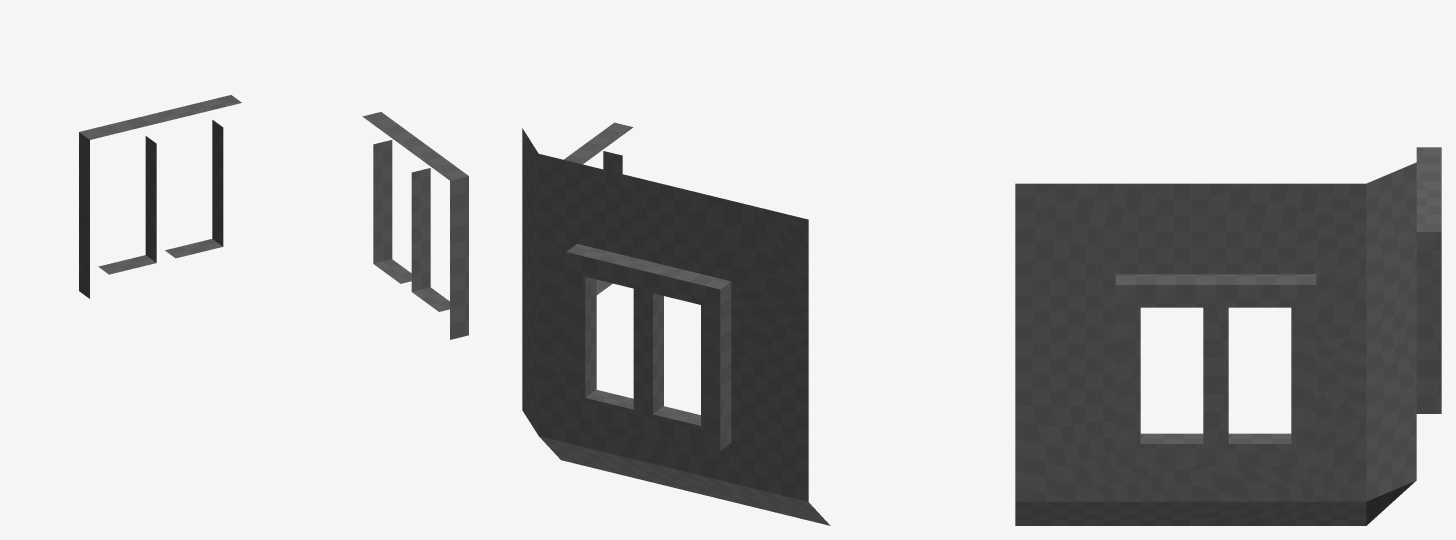
3 renders of one model, left to right at view 1: azimuth 30°, elevation 25°; view 2: azimuth 150°, elevation 25°; view 3: azimuth 270°, elevation 25°, orthographic. The views are drawn at different scales.
Parts seen in each view (by area): view 1: 2; view 2: 2; view 3: 2.
Part boxes in pixels (left/top/right/bottom): 2: left=79, top=95, right=468, bottom=339; 2: left=522, top=122, right=830, bottom=525; 2: left=1015, top=147, right=1441, bottom=525.
Size of the model in its own units: 2.12 by 2 by 2.12.
Materials: 2 (2 with a texture image).
